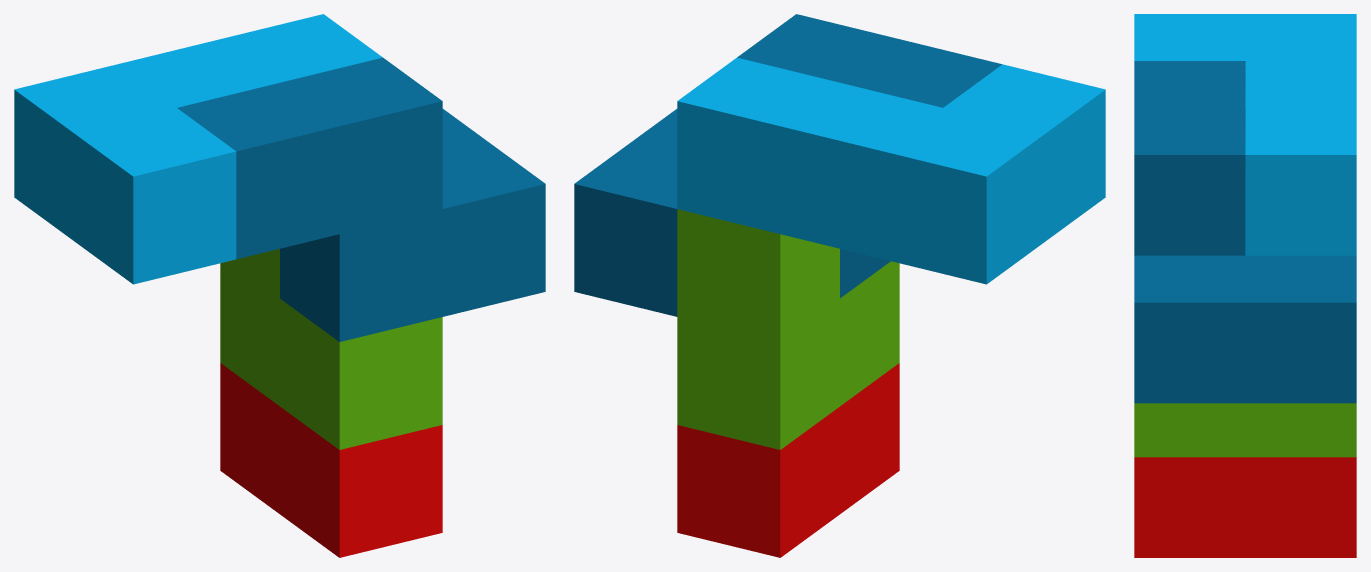
3 renders of one model, left to right at view 1: azimuth 30°, elevation 25°; view 2: azimuth 150°, elevation 25°; view 3: azimuth 270°, elevation 25°, orthographic. The views are drawn at different scales.
Visible parts, largest first — view 1: mergedBlocks(Clone); view 2: mergedBlocks(Clone); view 3: mergedBlocks(Clone).
Boxes of the visible parts, left/top/right/bottom form: mergedBlocks(Clone): left=14, top=14, right=545, bottom=557; mergedBlocks(Clone): left=574, top=14, right=1105, bottom=557; mergedBlocks(Clone): left=1134, top=14, right=1356, bottom=557.
Size of the model in its own units: 4 by 4 by 2.
4 materials, 4 textured.
